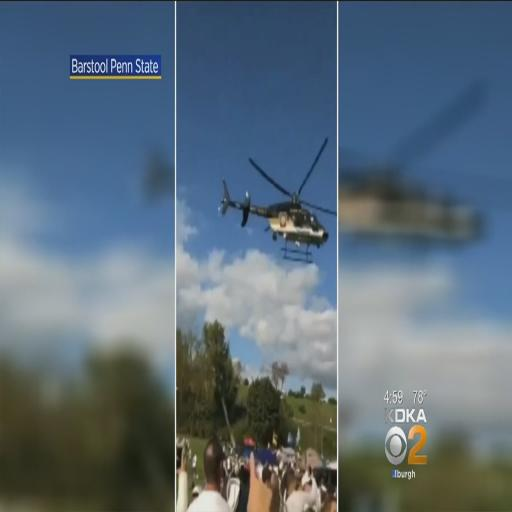helicopter: (218, 139, 338, 264)
